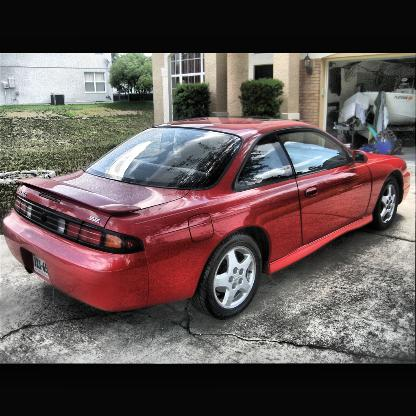Nissan 240SX Coupe 1998: (6, 117, 413, 322)
